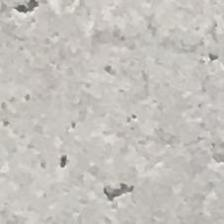Non_Crack: (5, 2, 224, 224)
